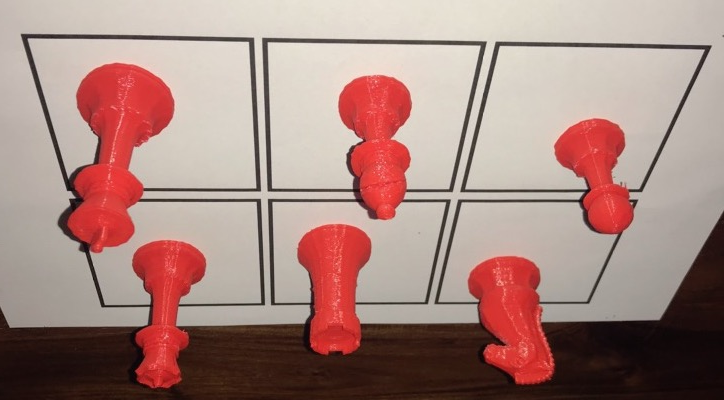Red Bishop: (329, 72, 424, 227)
Red Castle: (287, 215, 379, 361)
Red King: (54, 55, 173, 253)
Red Knight: (459, 250, 577, 387)
Red Pawn: (549, 114, 651, 245)
Red Queen: (122, 239, 210, 393)
